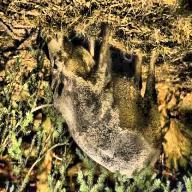boar: (32, 21, 167, 185)
